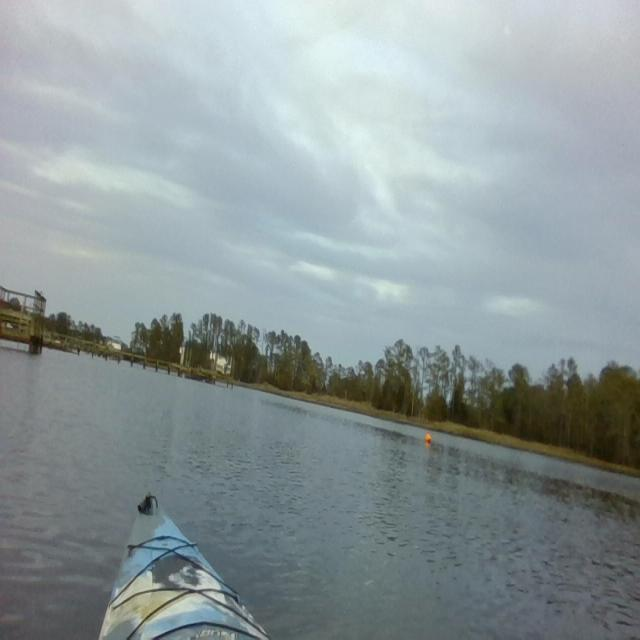Buoy: (424, 432, 433, 444)
